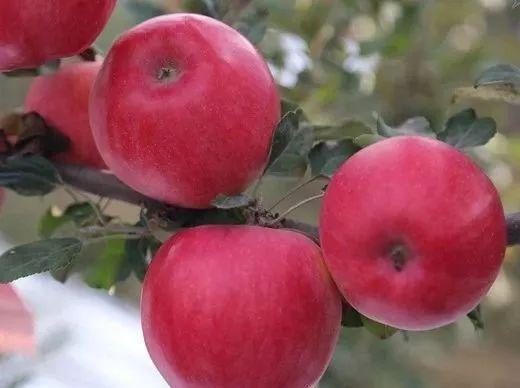apple: (85, 11, 281, 208), (318, 134, 507, 330), (139, 221, 338, 388)
